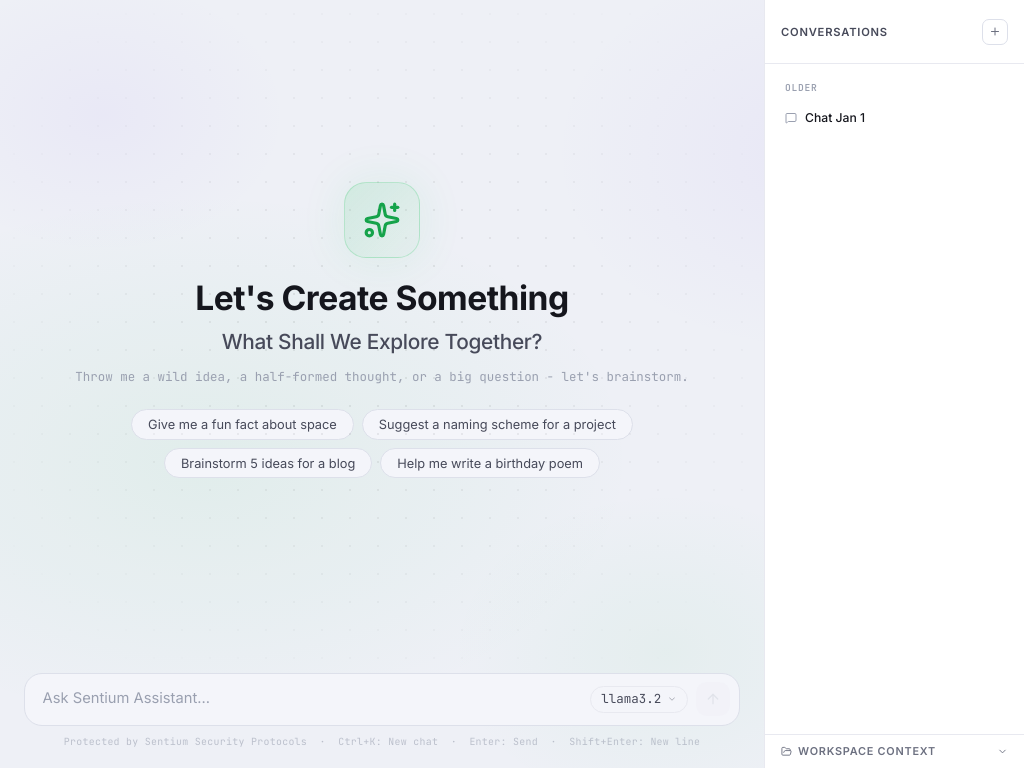
Test: Assistant model selection › renders all available models in the selector
Click the text "llama3.2": (639, 699) [590,686,688,713]
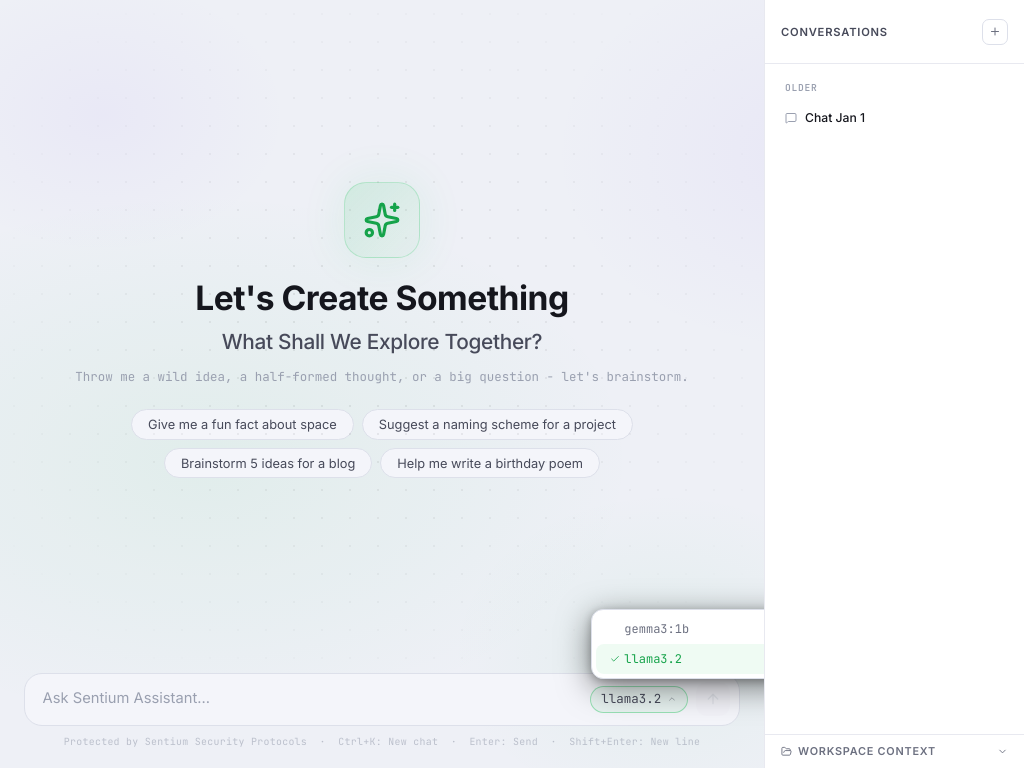
Now the text "gemma3:1b" is shown, box [624,621,689,637]
